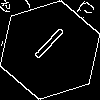I: (25, 25, 68, 69)
